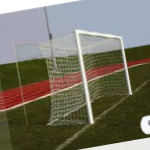goals: (38, 27, 133, 126)
